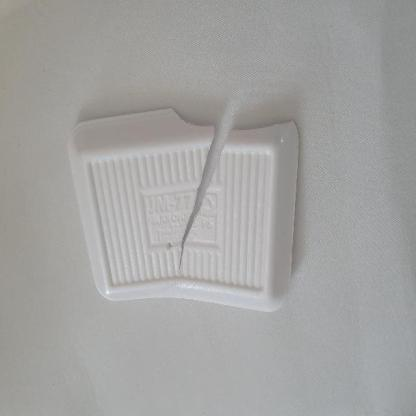Glass Cup: (68, 106, 300, 313), (68, 108, 299, 311)
